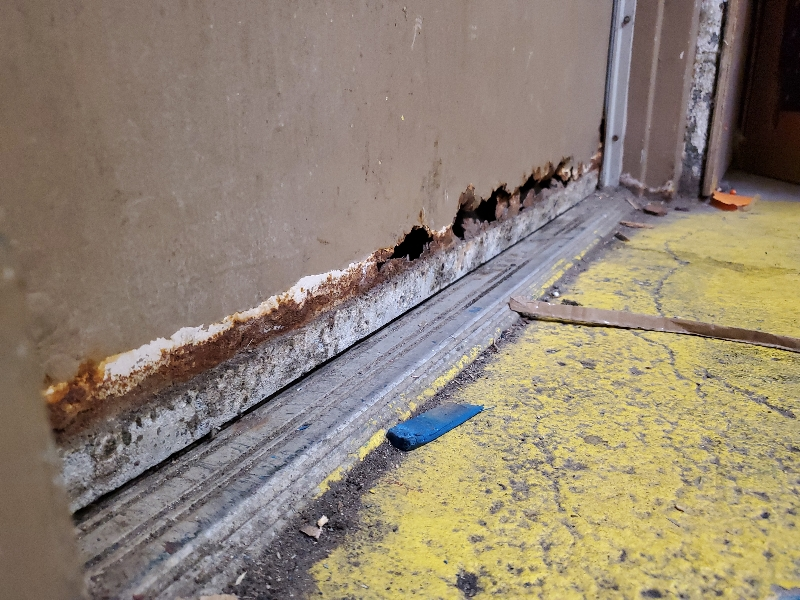rust: (76, 332, 248, 377)
